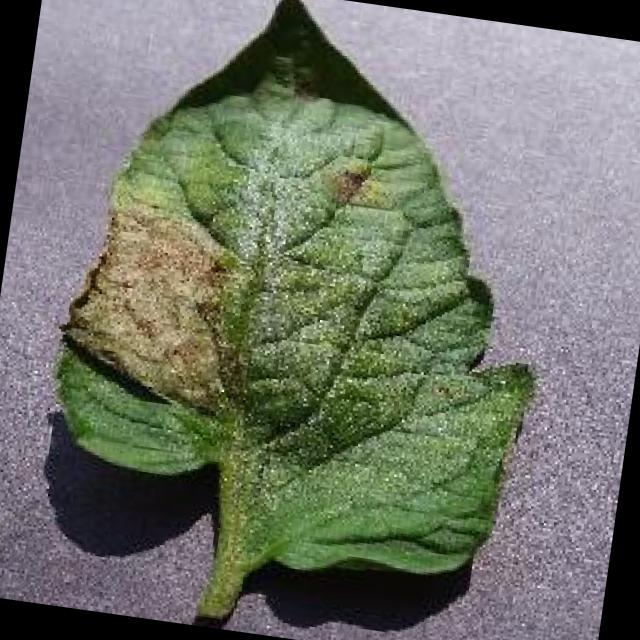Tomato_Late_Blight: (50, 195, 288, 452)
